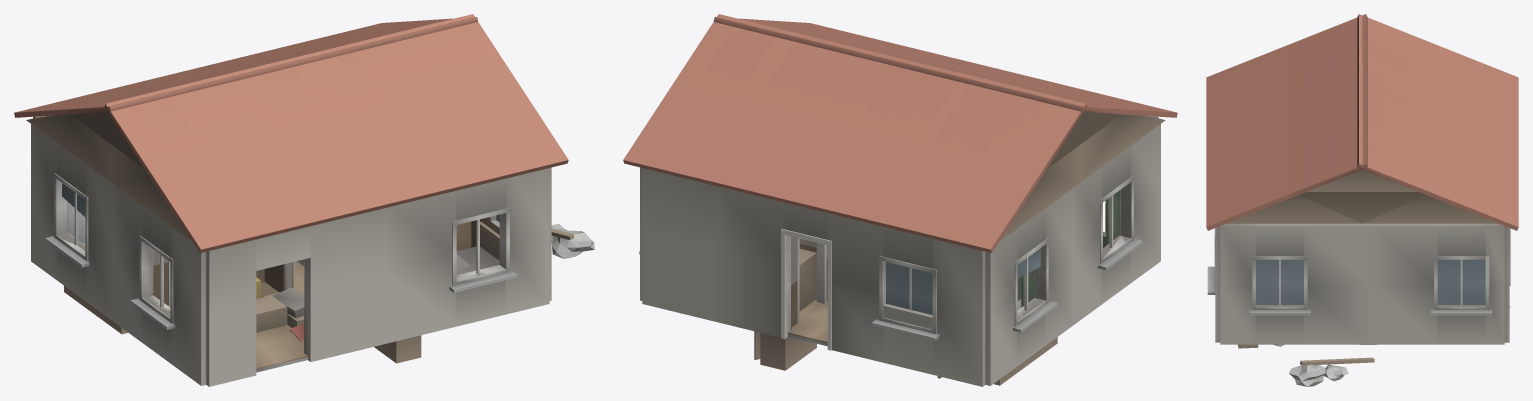
The model's file is casa_r13.glb.
The picture shows the model from 3 angles, left to right: view 1: azimuth 30°, elevation 25°; view 2: azimuth 150°, elevation 25°; view 3: azimuth 270°, elevation 25°; orthographic projection. The views are drawn at different scales.
Parts seen in each view (by area): view 1: longe, ext, detalhe, dentro, cama_quarto11, mesa_centro_sala, guarda_roupa_quarto1, tv_sala; view 2: longe, ext, detalhe, guarda_roupa_quarto2, dentro, balcao_cozinha0; view 3: longe, ext, detalhe.
Boxes of the visible parts, box(x1,y1,x2,y2) form: longe: box(14, 14, 568, 253); ext: box(31, 116, 551, 386); detalhe: box(45, 173, 594, 329); dentro: box(37, 116, 499, 372); cama_quarto11: box(456, 221, 499, 274); mesa_centro_sala: box(256, 295, 287, 332); guarda_roupa_quarto1: box(374, 335, 421, 363); tv_sala: box(263, 287, 304, 327); longe: box(623, 14, 1177, 253); ext: box(640, 116, 1160, 386); detalhe: box(639, 176, 1142, 350); guarda_roupa_quarto2: box(754, 249, 816, 370); dentro: box(721, 116, 1154, 346); balcao_cozinha0: box(994, 299, 1057, 385); longe: box(1206, 14, 1518, 230); ext: box(1215, 223, 1509, 344); detalhe: box(1207, 228, 1510, 386).
Size of what is drawn, in the model's own units: 9.95 by 5.59 by 7.14.
